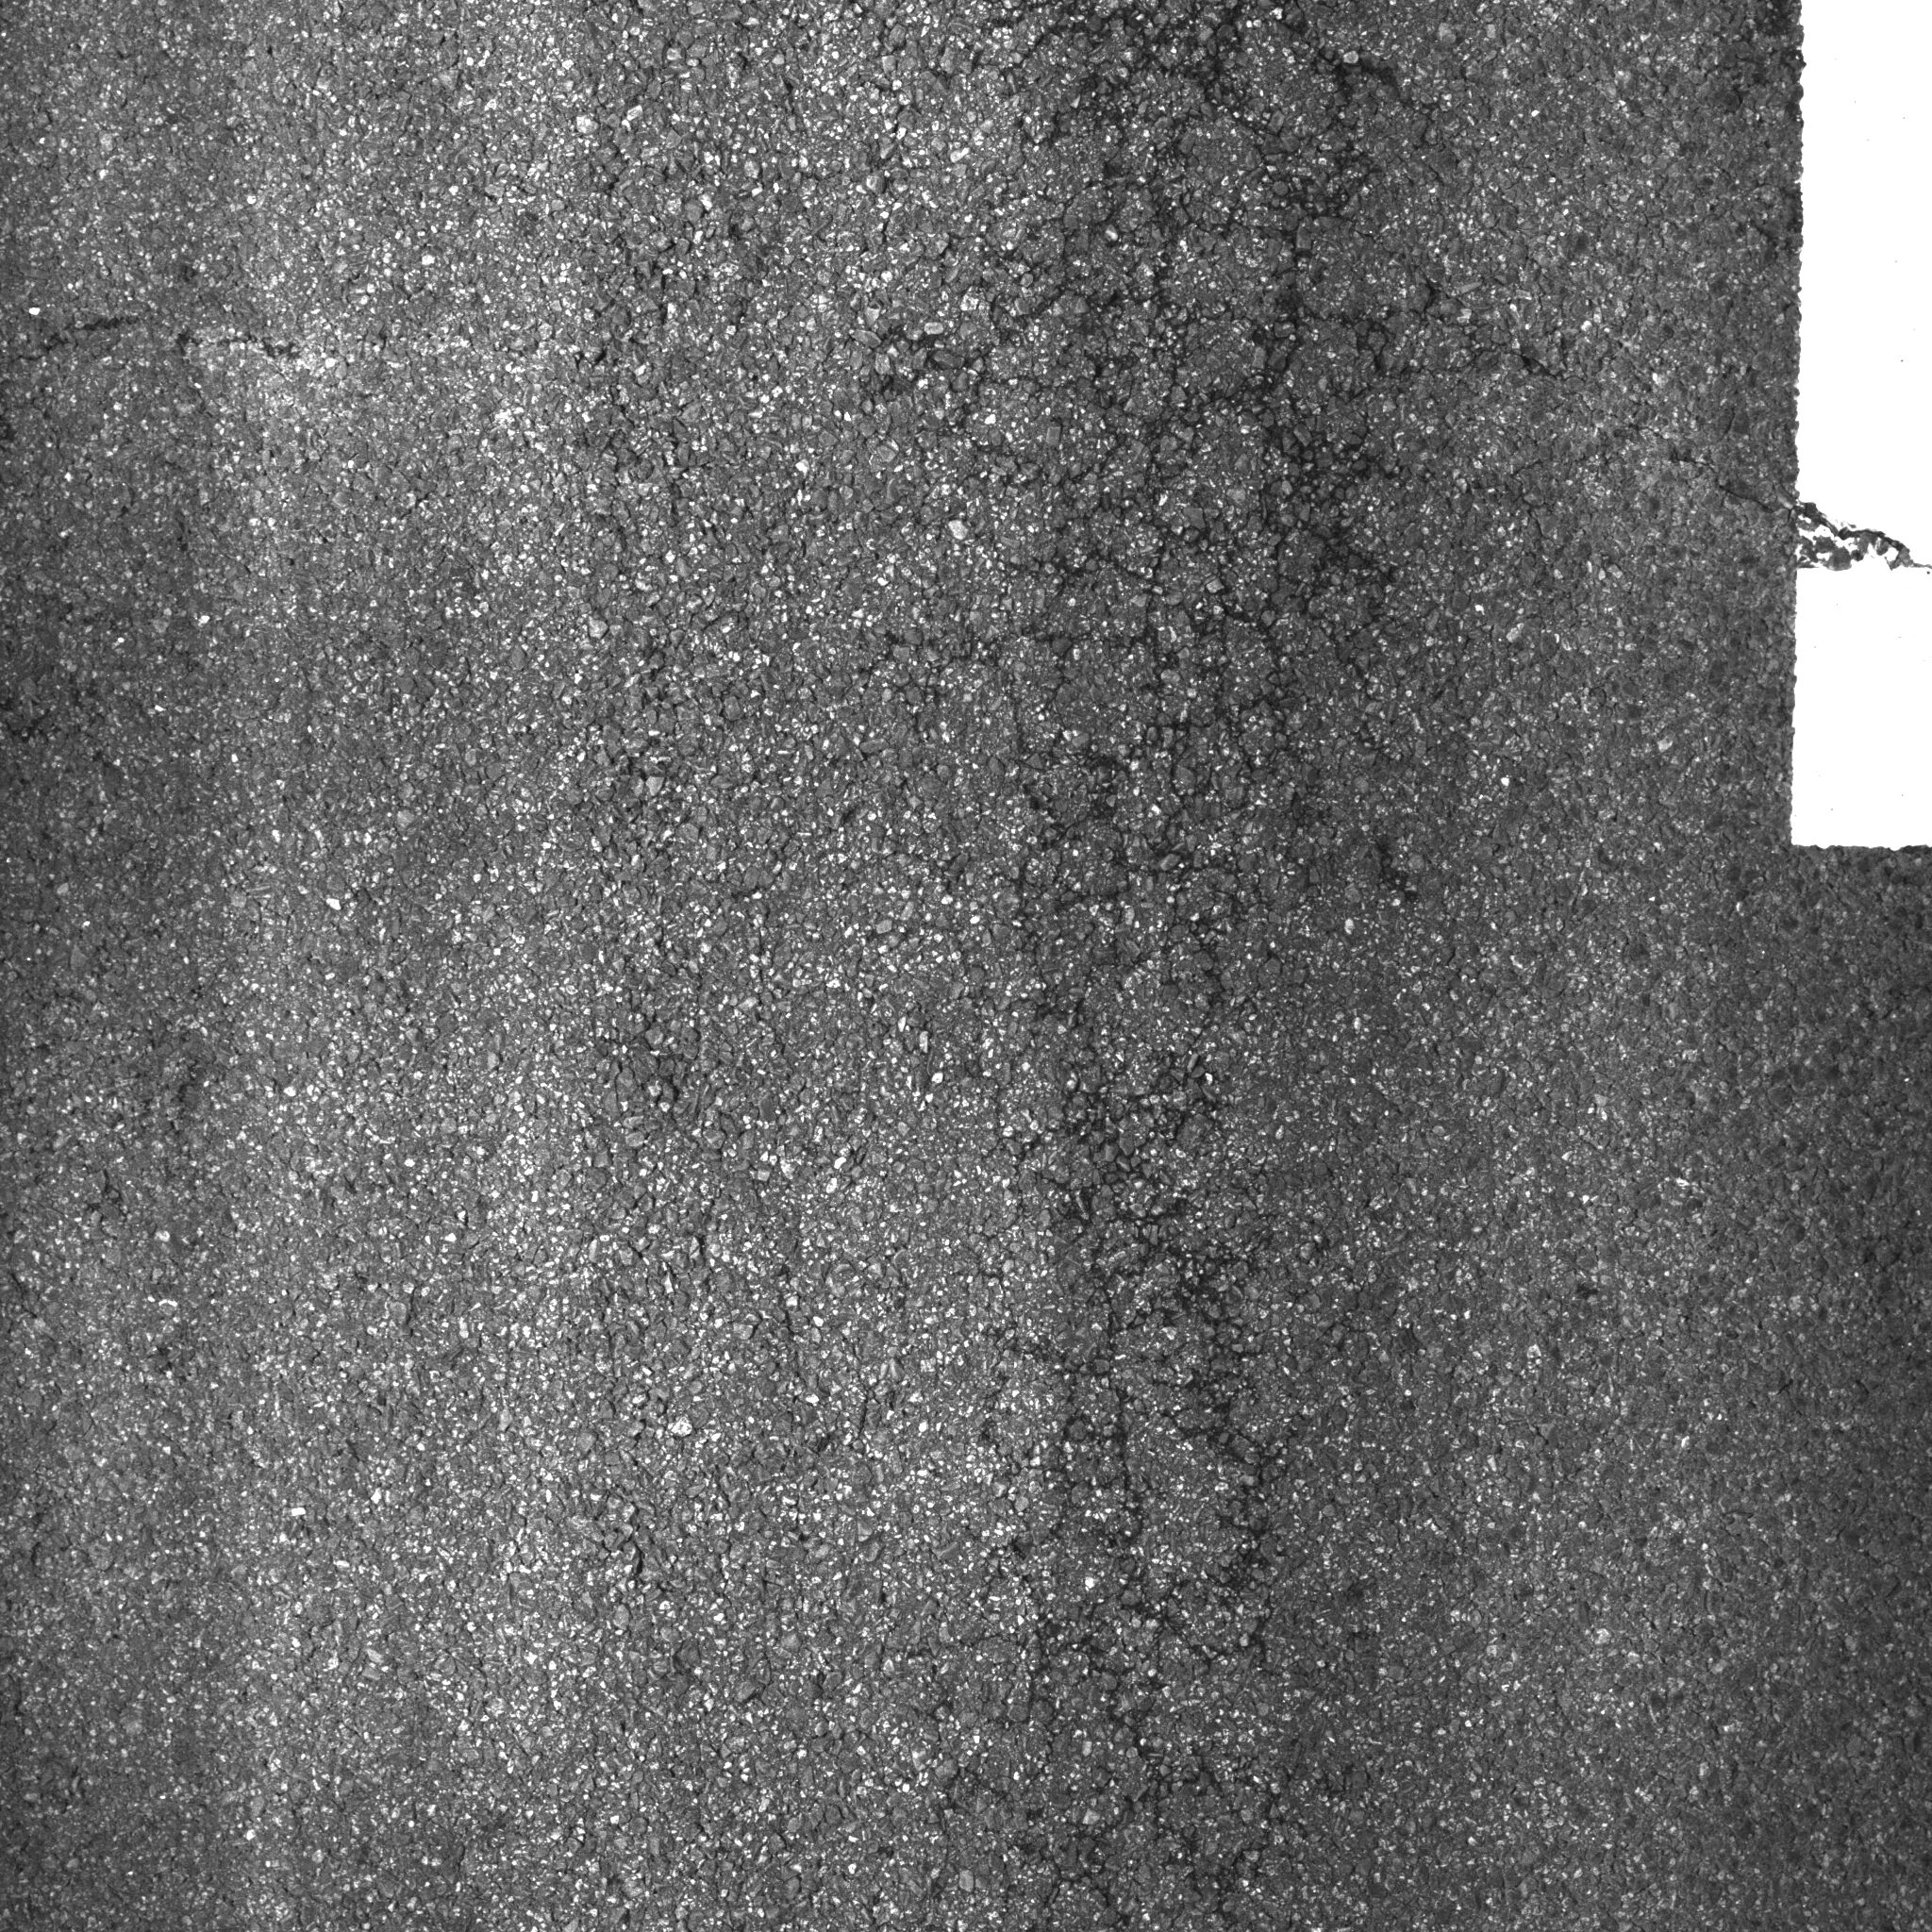alligator: (651, 4, 1766, 1923)
